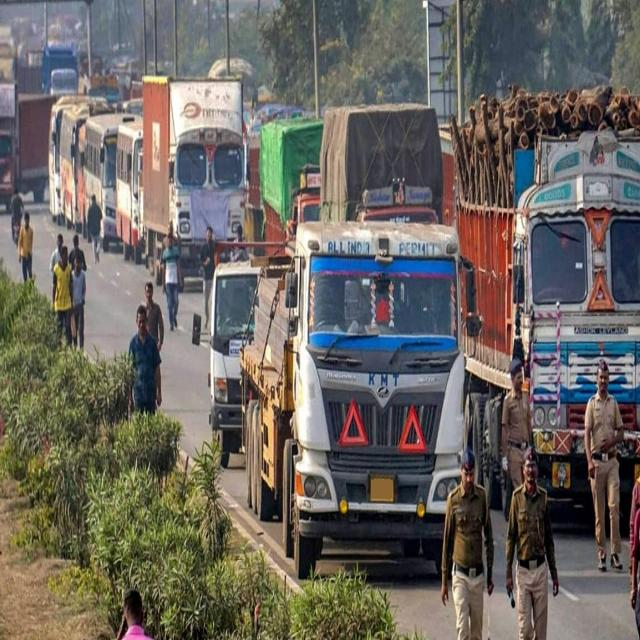truck: (451, 89, 640, 513), (240, 222, 465, 578), (144, 76, 245, 277), (210, 262, 260, 467)
